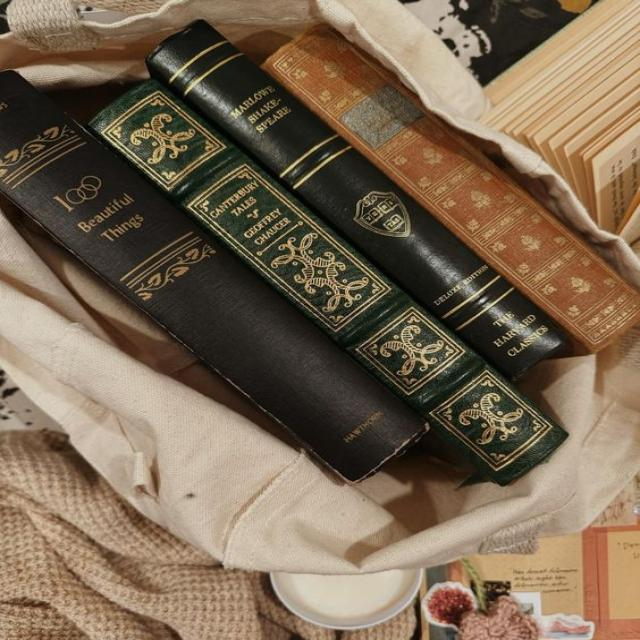book: (85, 77, 569, 488), (0, 68, 431, 485), (143, 17, 566, 380), (262, 18, 640, 353)
